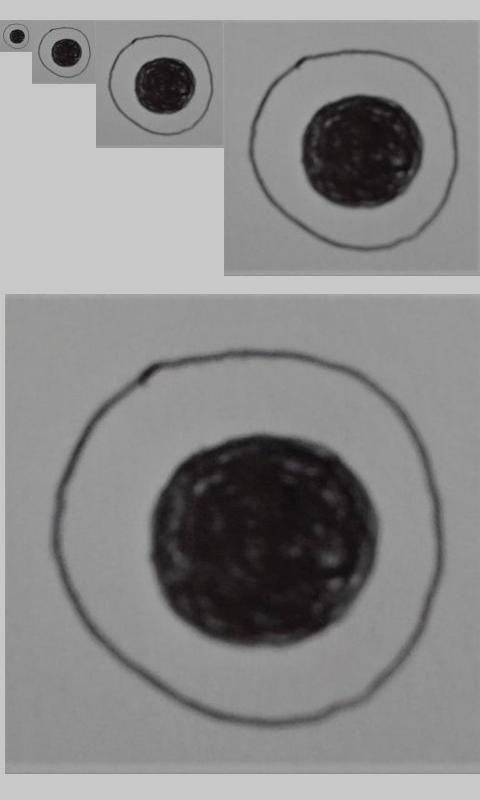radio_button: (49, 345, 446, 729), (247, 45, 462, 256), (107, 34, 216, 137), (37, 26, 92, 79), (2, 23, 30, 50)
